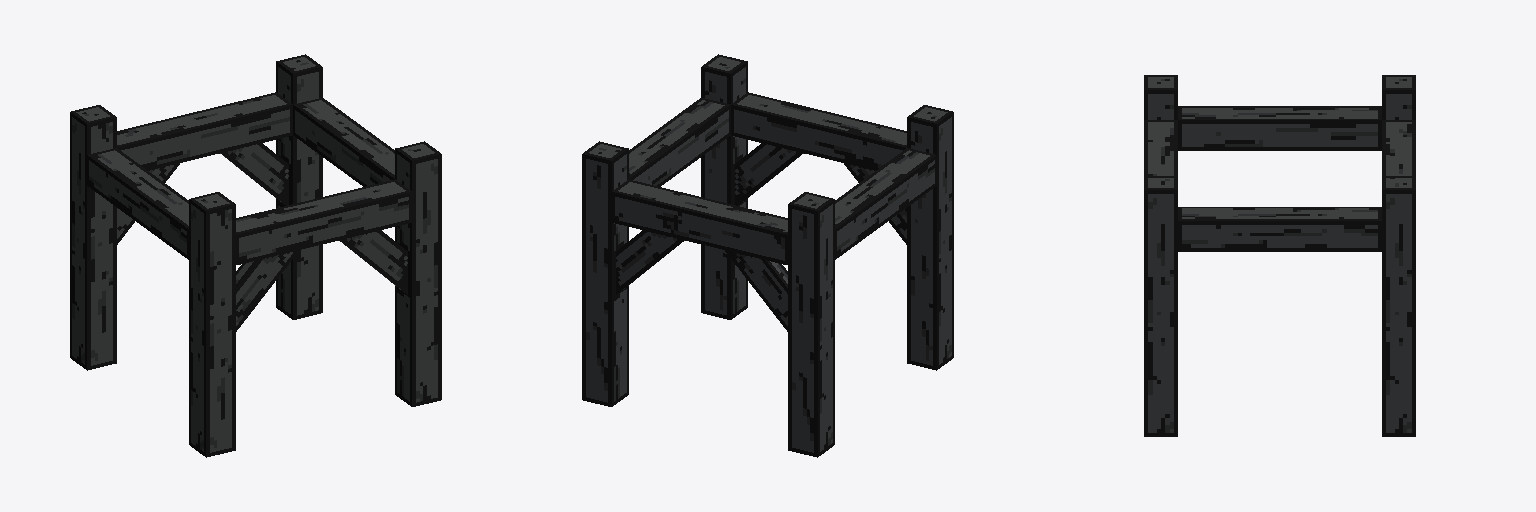
The picture shows the model from 3 angles: view 1: azimuth 30°, elevation 25°; view 2: azimuth 150°, elevation 25°; view 3: azimuth 270°, elevation 25°; orthographic projection.
Parts seen in each view (by area): view 1: cube; view 2: cube; view 3: cube.
Part boxes in pixels (x1,y1,x2,y2): cube: (70,54,441,457); cube: (582,54,953,457); cube: (1144,75,1415,436).
Size of the model in its own units: 2 by 2 by 2.
1 materials, 1 textured.